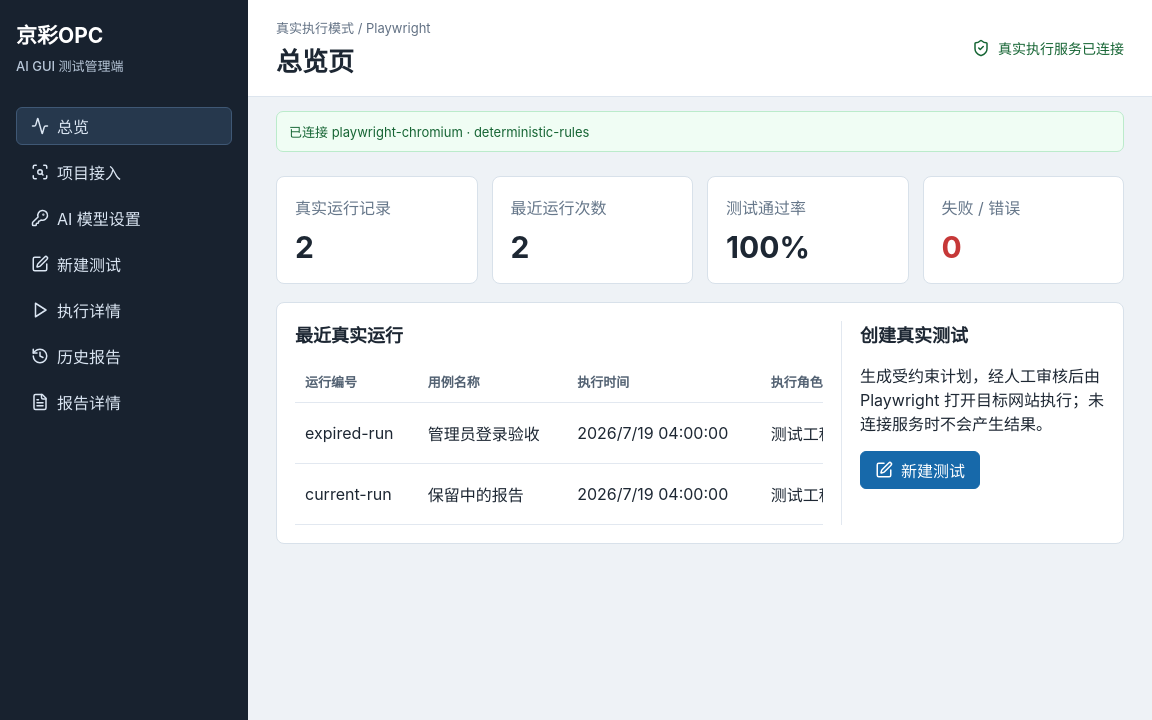
App › runs artifact retention cleanup and exposes the independent deletion audit
The width and height of the screenshot is (1152, 720).
Expected: the text "真实执行服务已连接" is shown, [998,38,1124,58]
Click the button "历史报告" at (124, 356), box [16,337,232,375]
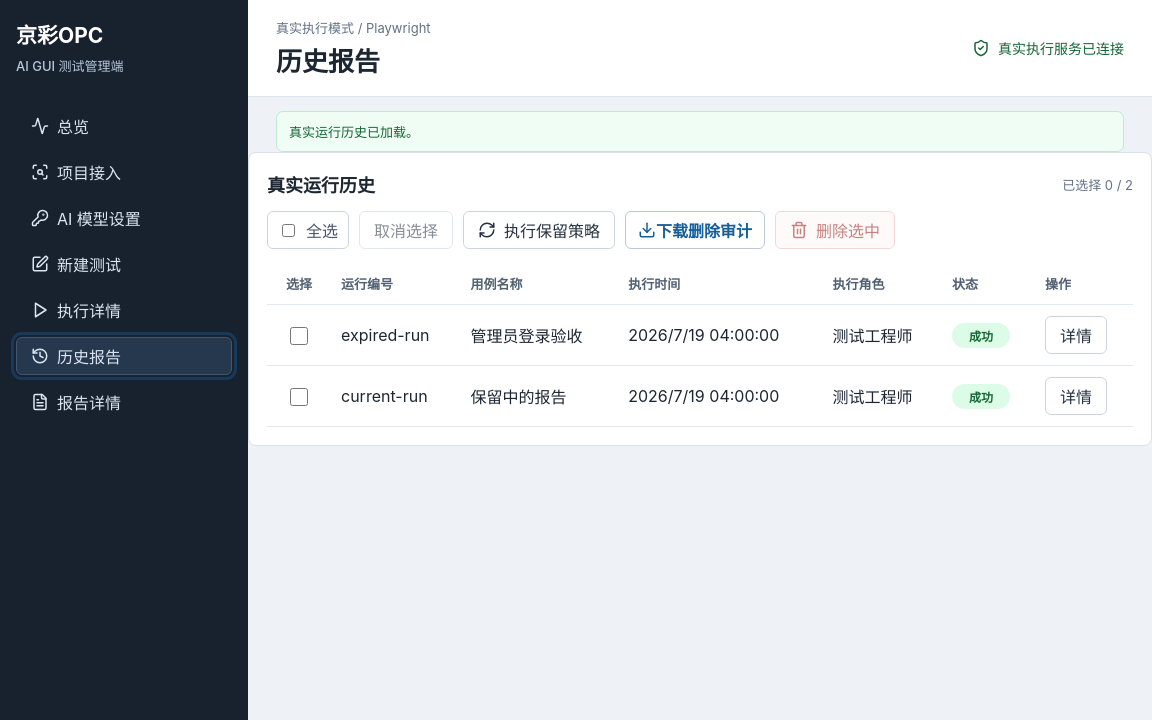
Click the button "执行保留策略" at (539, 230), box [463,211,615,249]
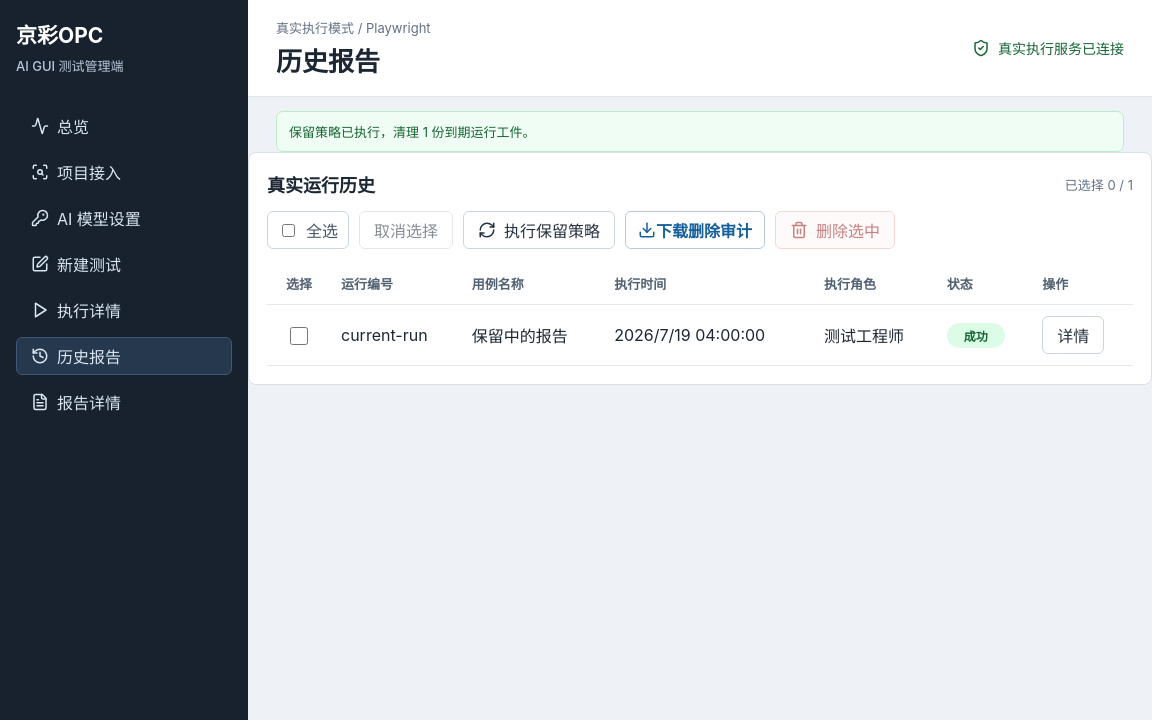
Expected: the text "保留中的报告" is shown, [462,304,604,366]
Expected: the text "保留策略已执行，清理 1 份到期运行工件。" is shown, [276,111,1124,152]
Expected: the text "expired-run" is gone
